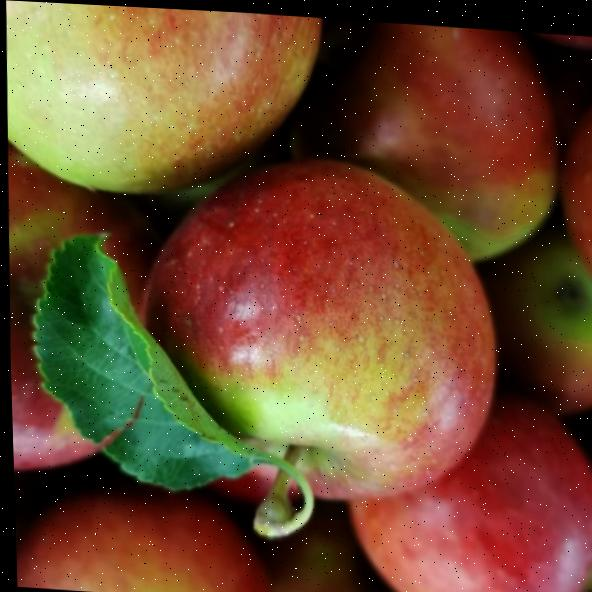HEALTHY: (131, 144, 516, 552)
